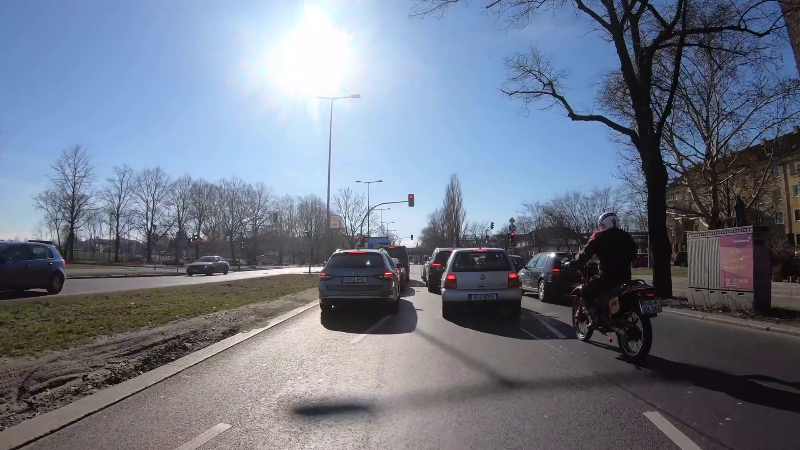Plate: (340, 275, 369, 283), (468, 293, 498, 300)
